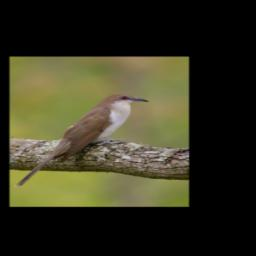Cuckoo: (15, 93, 151, 188)
